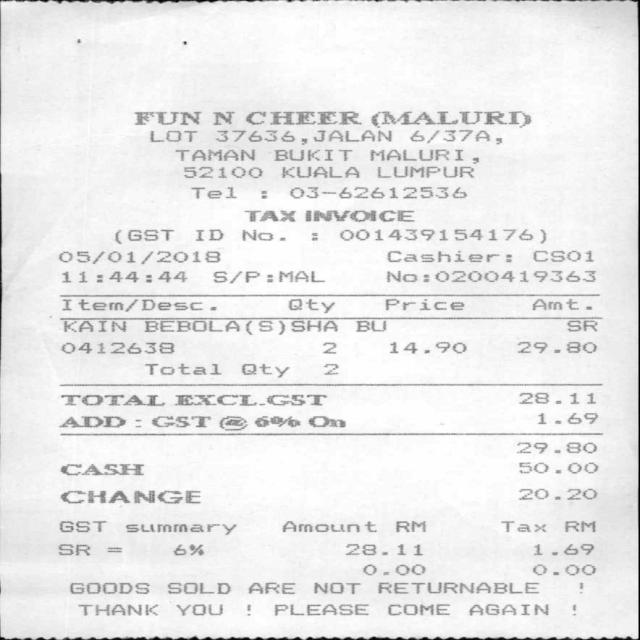text: (338, 228, 544, 242), (370, 110, 530, 127), (143, 320, 336, 334), (213, 130, 390, 144), (386, 270, 596, 281), (61, 298, 214, 311), (289, 186, 465, 197), (58, 251, 219, 263), (376, 581, 536, 593), (59, 490, 198, 503), (172, 394, 324, 405), (246, 111, 360, 124), (61, 271, 186, 282), (59, 341, 172, 353), (212, 270, 322, 282), (304, 210, 413, 222), (388, 251, 510, 261), (59, 394, 164, 405), (272, 603, 366, 615), (124, 524, 234, 534), (377, 166, 472, 177), (368, 149, 462, 160), (59, 463, 142, 475), (409, 129, 490, 141), (384, 298, 464, 310), (516, 340, 596, 352), (174, 148, 253, 160), (77, 603, 156, 615), (281, 521, 375, 531), (518, 391, 596, 403), (273, 148, 350, 160), (388, 340, 464, 352), (182, 166, 262, 177), (518, 462, 598, 473), (68, 582, 148, 593), (517, 488, 596, 499), (133, 111, 199, 124), (143, 363, 220, 374), (282, 166, 358, 177), (114, 229, 172, 243), (468, 604, 547, 614), (59, 416, 124, 428), (517, 442, 595, 452), (345, 544, 421, 554), (62, 320, 125, 332), (166, 582, 229, 593), (151, 415, 207, 427), (536, 412, 596, 423), (531, 564, 596, 574), (287, 298, 333, 312), (240, 363, 288, 376), (362, 564, 424, 574), (533, 544, 594, 554), (387, 604, 448, 614), (532, 250, 592, 260), (58, 520, 105, 532), (253, 415, 299, 427), (175, 603, 221, 615), (243, 210, 293, 221), (240, 228, 283, 240), (312, 582, 358, 593), (247, 582, 293, 593), (190, 186, 234, 197), (149, 131, 196, 141), (531, 299, 577, 309), (500, 521, 544, 531), (218, 415, 245, 430), (57, 543, 89, 555), (307, 416, 345, 426), (355, 319, 385, 331), (564, 520, 594, 532), (394, 520, 423, 532), (194, 228, 222, 240), (172, 544, 203, 554), (566, 320, 596, 330), (211, 111, 232, 124), (323, 363, 337, 374), (322, 342, 334, 352)
